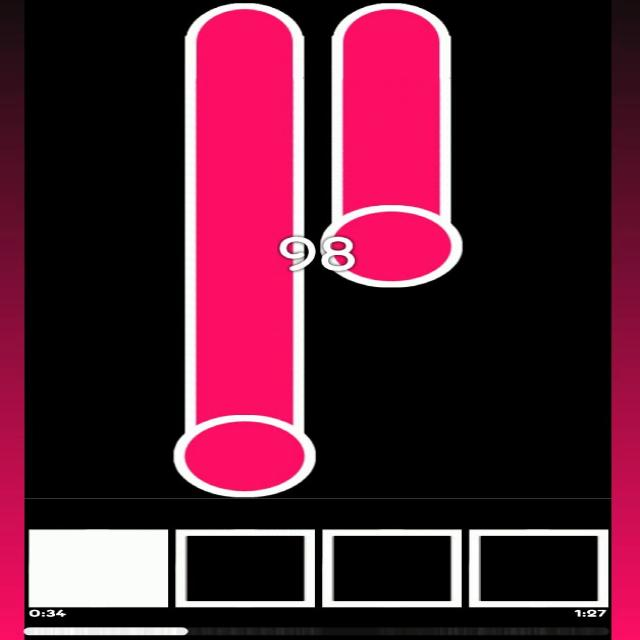end_hold: (329, 0, 454, 48), (182, 0, 306, 48)
start_hold: (173, 378, 316, 499), (318, 179, 464, 289)
